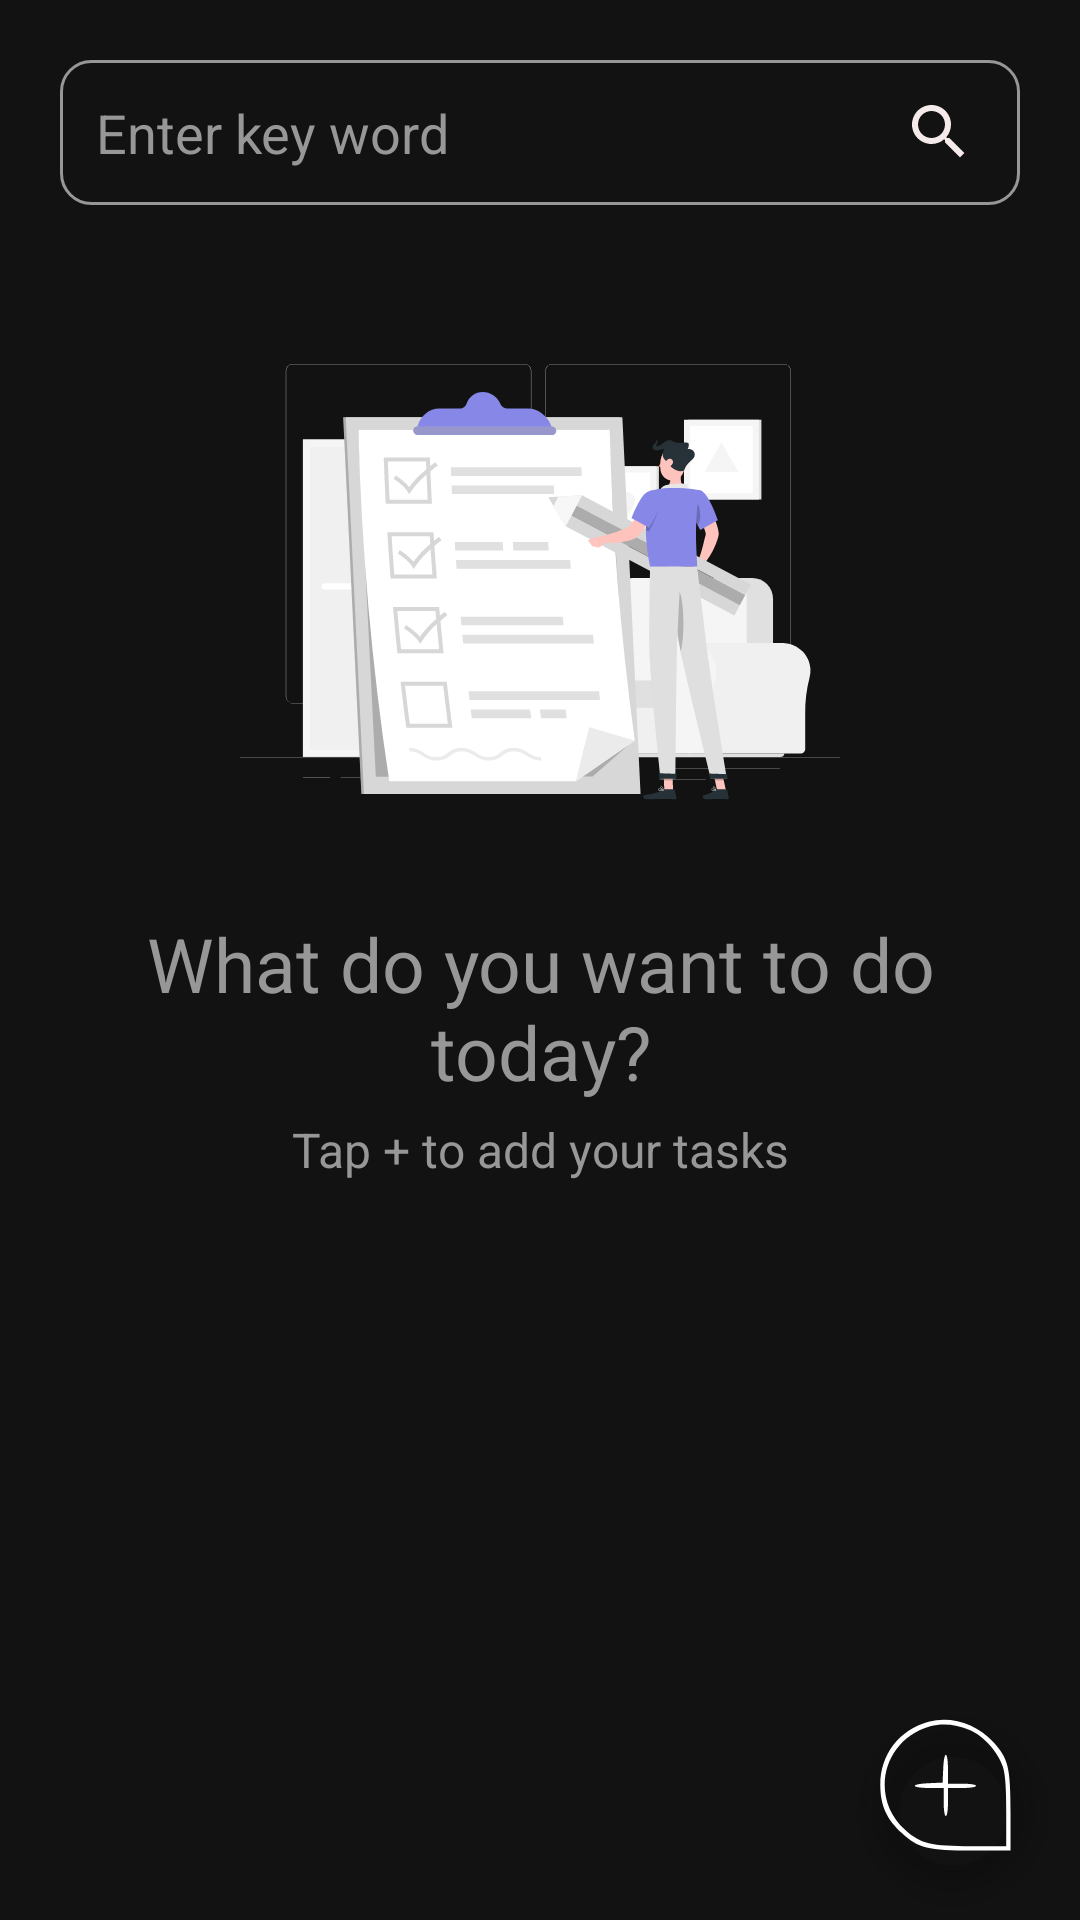

Locate icon controls on the screen. Image size 1080px×1920px, boxes as (x1, y1, x2, y2).
add: (880, 1719, 1011, 1851)
search: (912, 105, 964, 157)
